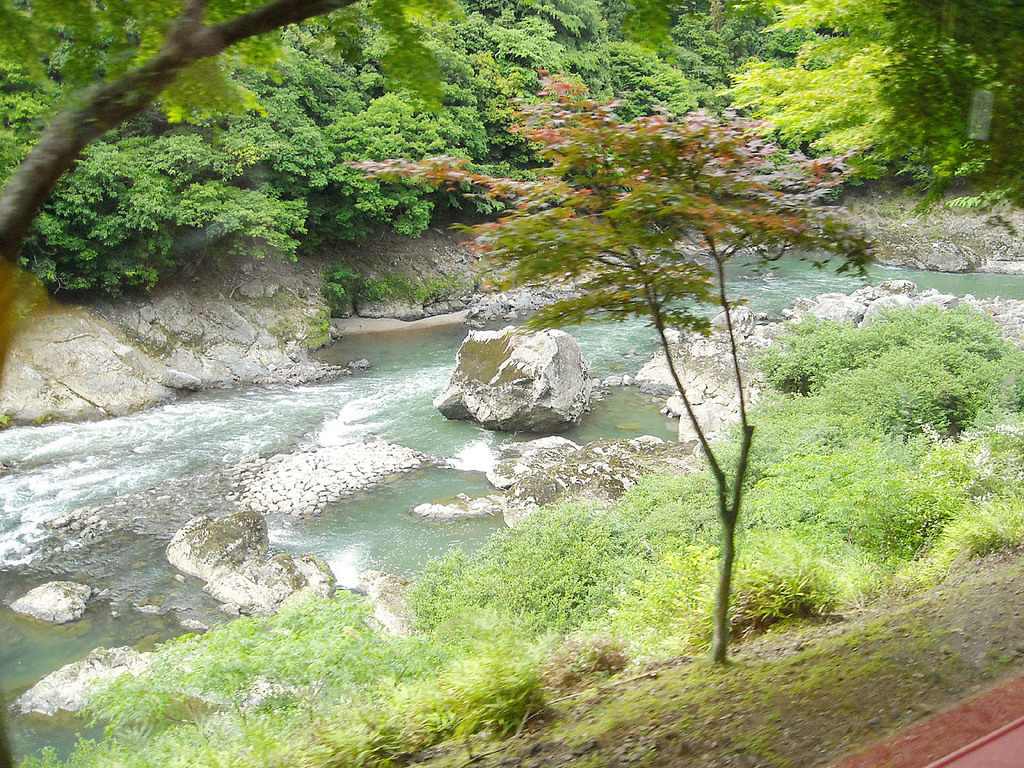Tree: (0, 0, 1023, 408), (318, 65, 891, 665)
